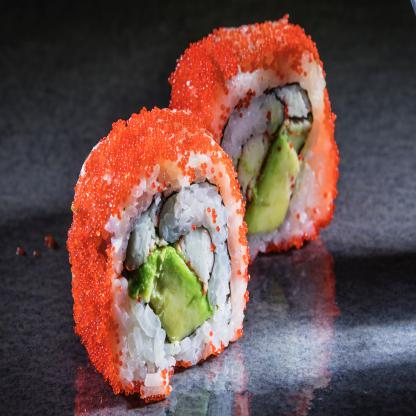masago: (65, 99, 261, 402)
